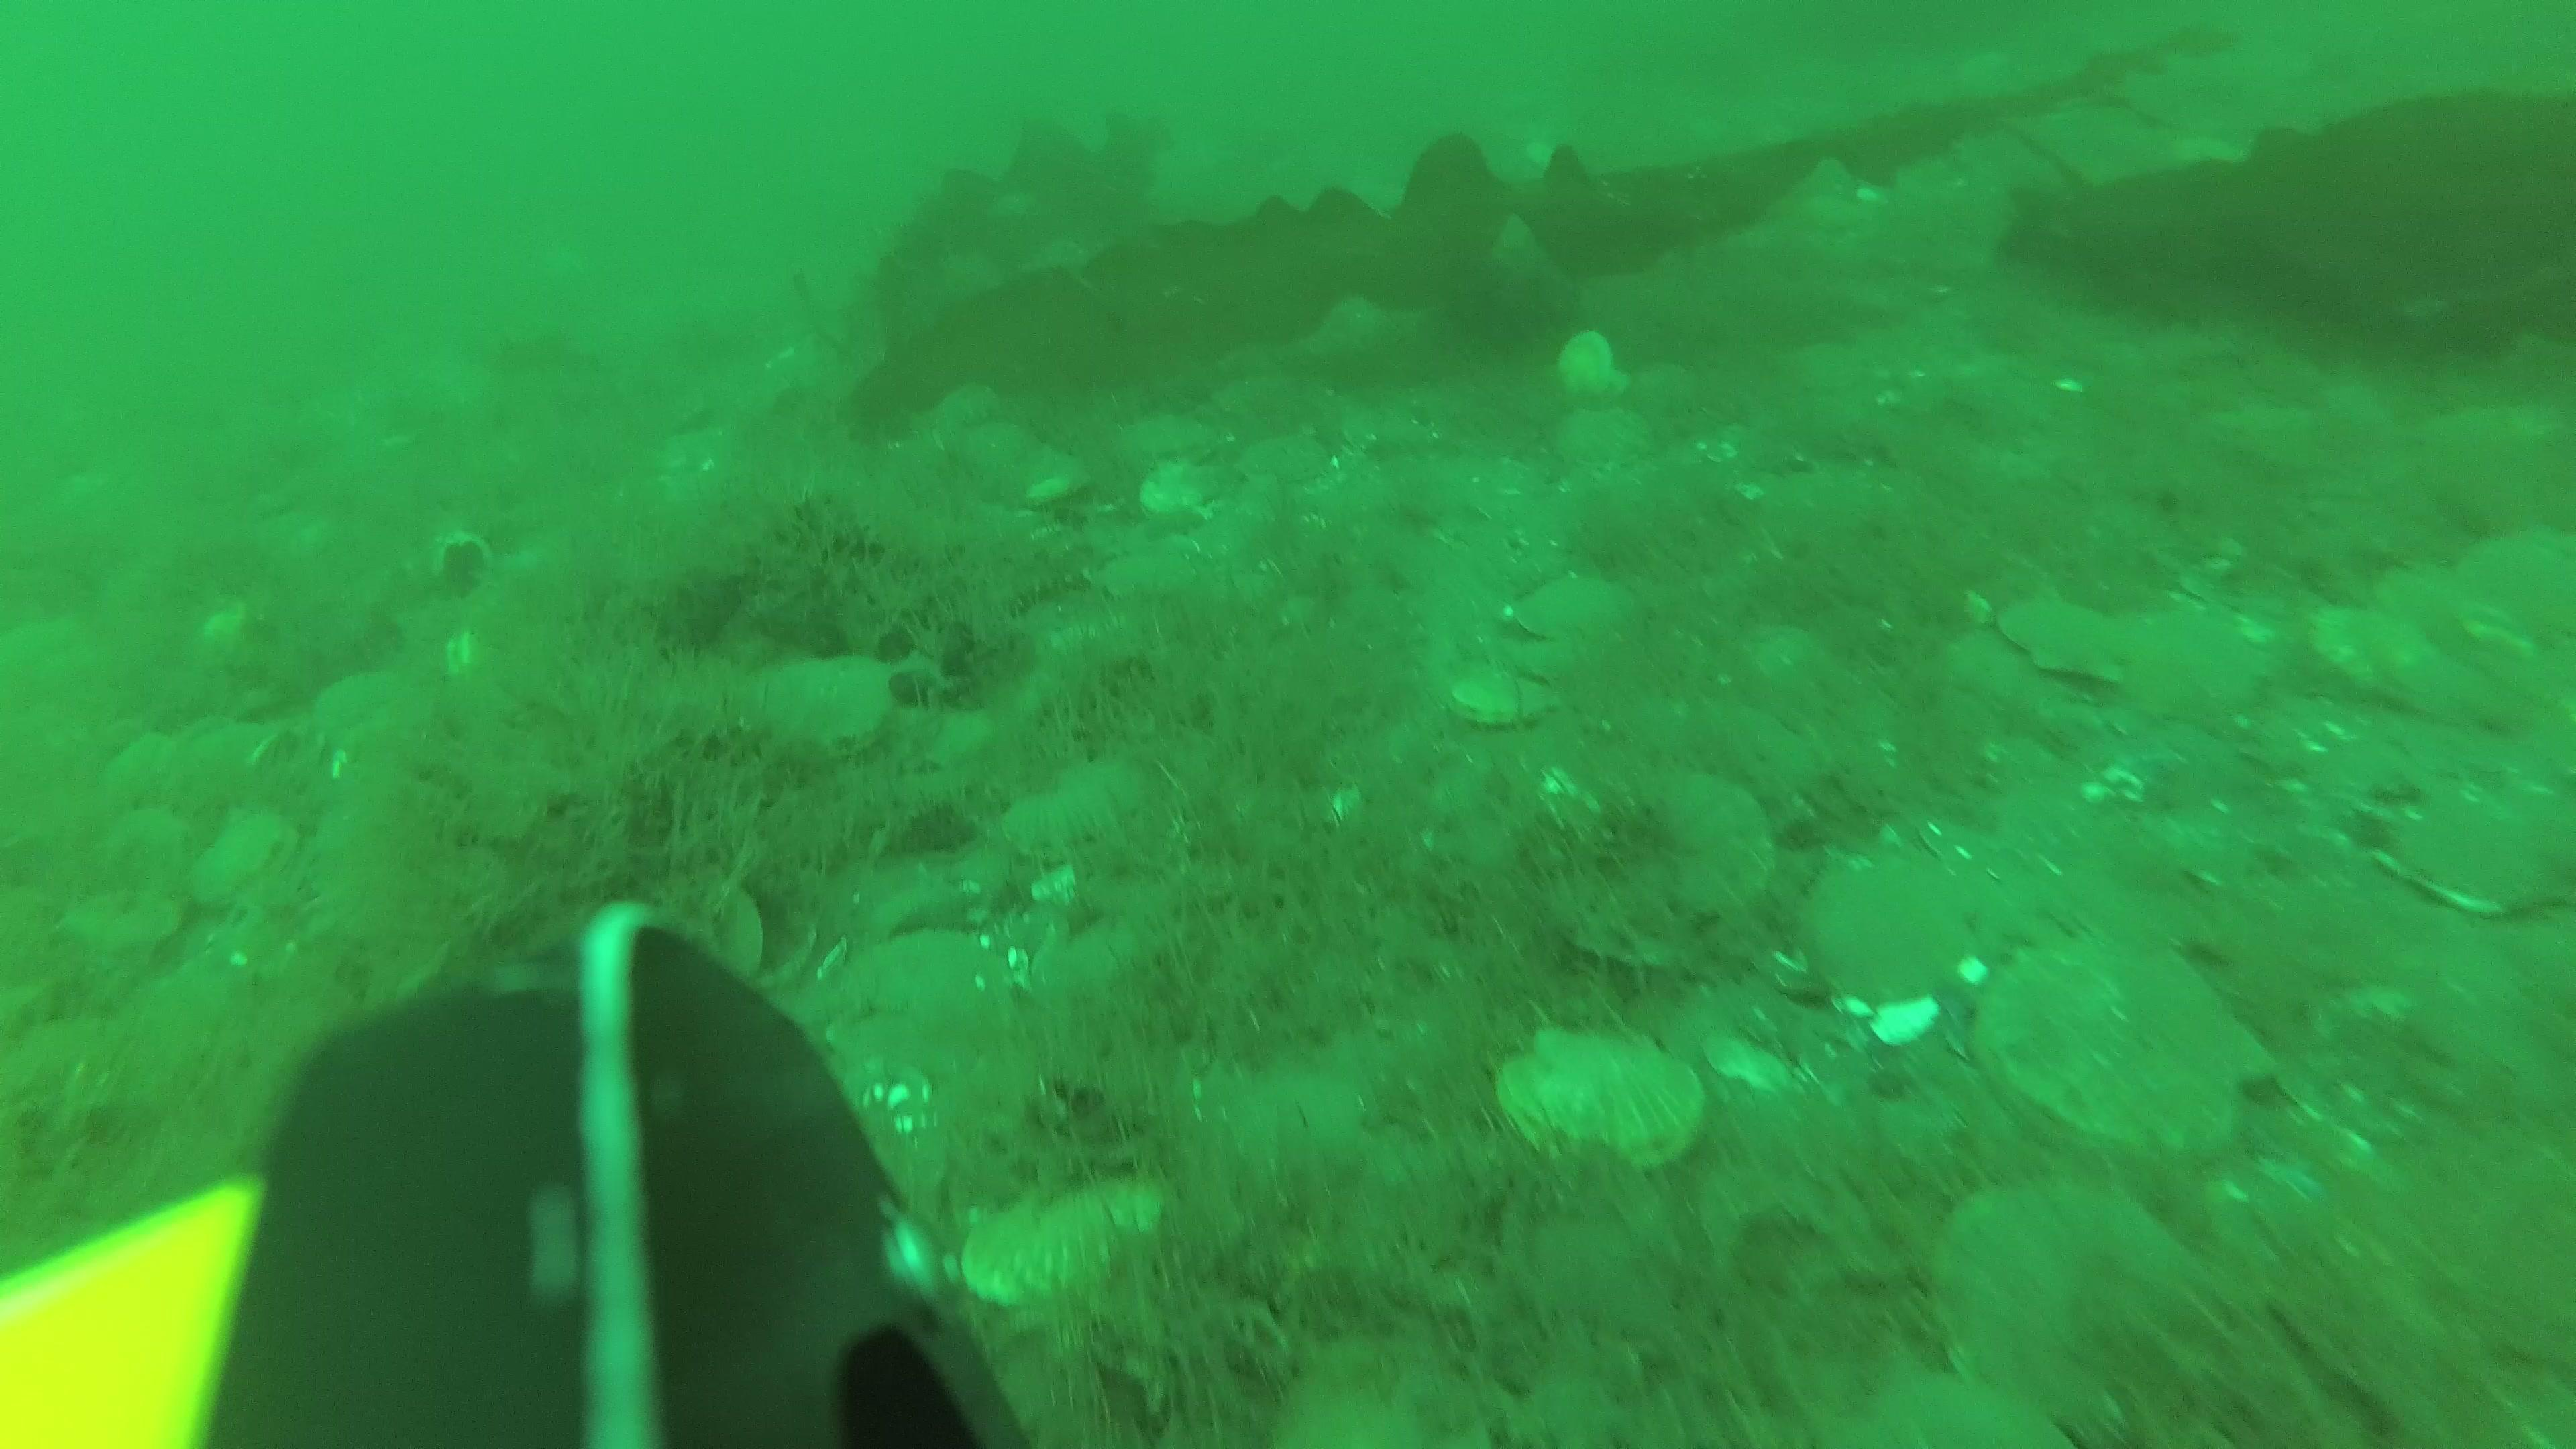scallop: (1928, 1159, 2224, 1421), (1980, 929, 2277, 1159), (1557, 761, 1785, 971), (1806, 833, 2028, 1016), (1497, 1019, 1709, 1177), (824, 925, 1024, 1092), (2314, 610, 2502, 750), (959, 1178, 1155, 1311), (2387, 794, 2572, 927), (2373, 564, 2541, 685), (2107, 609, 2277, 725), (752, 658, 904, 763), (1994, 591, 2127, 688), (2473, 529, 2572, 658), (1522, 570, 1649, 662), (193, 796, 297, 904), (69, 879, 191, 966), (1449, 665, 1552, 738), (1115, 409, 1215, 479), (1090, 538, 1201, 600), (1555, 405, 1651, 471), (1242, 435, 1338, 492), (1553, 322, 1624, 389), (1145, 460, 1214, 517)
